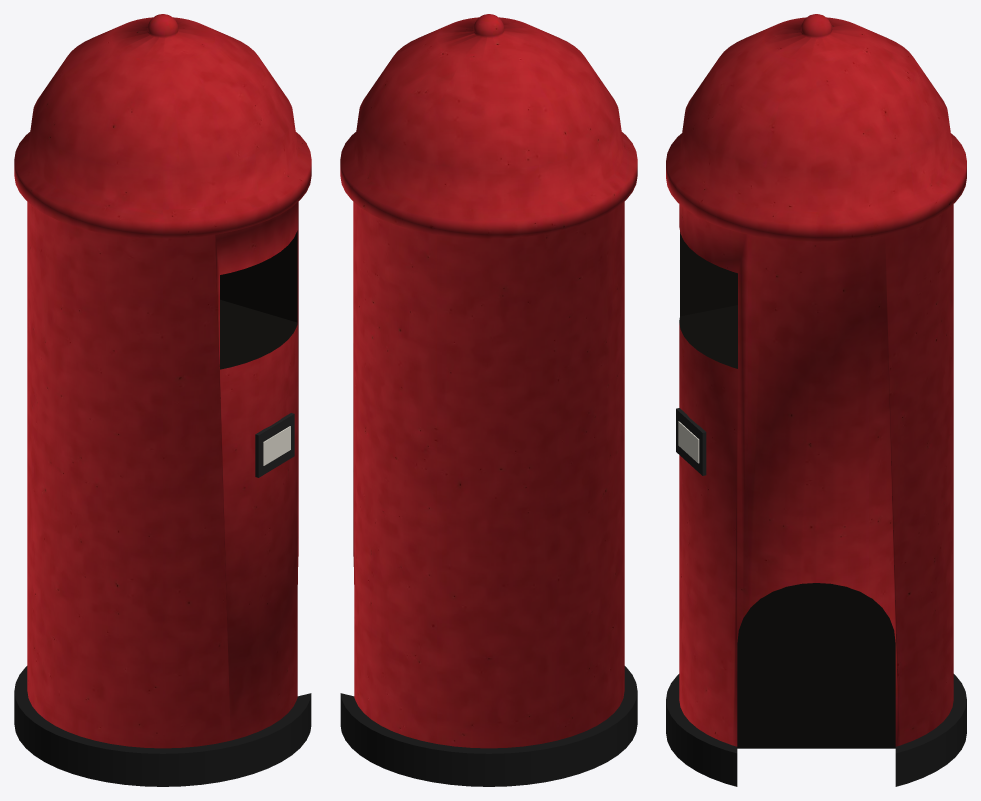
The model's file is post-box.glb.
3 views of the same model, side by side, from view 1: azimuth 30°, elevation 25°; view 2: azimuth 150°, elevation 25°; view 3: azimuth 270°, elevation 25° (orthographic).
Parts seen in each view (by area): view 1: pillar, base, plate, label; view 2: pillar, base; view 3: pillar, base, plate, label.
Boxes of the visible parts, left/top/right/bottom form: pillar: left=14, top=14, right=311, bottom=748; base: left=14, top=666, right=311, bottom=786; plate: left=255, top=413, right=294, bottom=477; label: left=263, top=426, right=290, bottom=465; pillar: left=340, top=14, right=637, bottom=748; base: left=340, top=666, right=637, bottom=786; pillar: left=666, top=14, right=966, bottom=746; base: left=666, top=674, right=966, bottom=786; plate: left=676, top=408, right=706, bottom=475; label: left=678, top=421, right=699, bottom=463.
Size of the model in its own units: 5.7 by 15 by 5.7.
6 materials, 1 textured.
